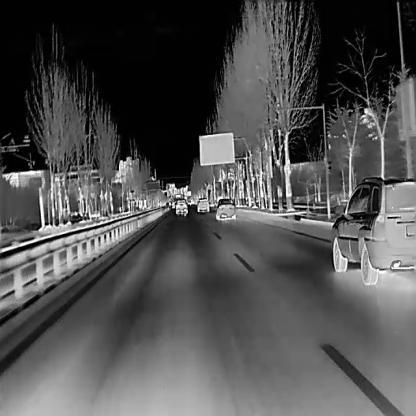car: (329, 174, 415, 285), (214, 196, 235, 220), (174, 197, 187, 214), (196, 196, 208, 211)
